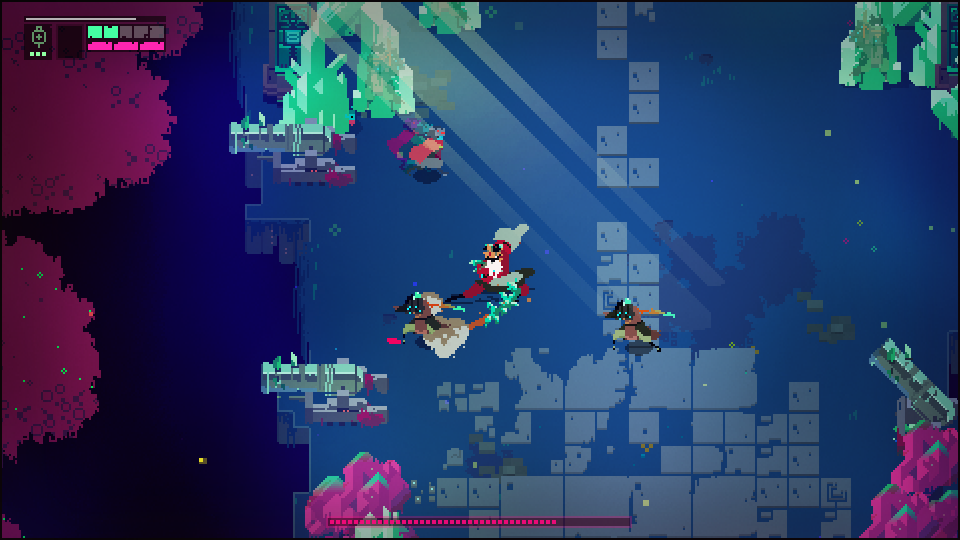hanged_man: (453, 219, 536, 331)
player: (408, 125, 447, 184)
